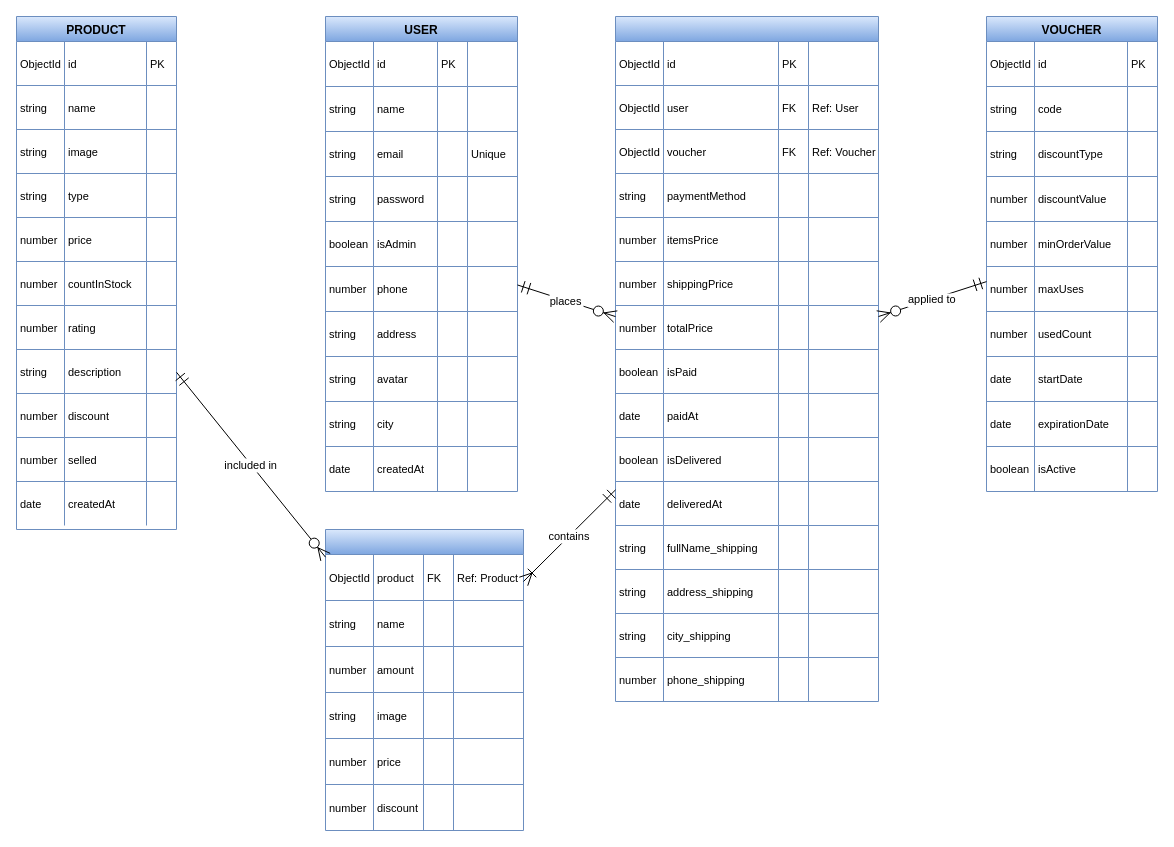
Image size: 1174x847. Some labels were removed from this diagram. Each missing label, with the box of its shape:
ORDER: (614, 16, 878, 702)
ORDER_ITEM: (324, 528, 524, 830)
